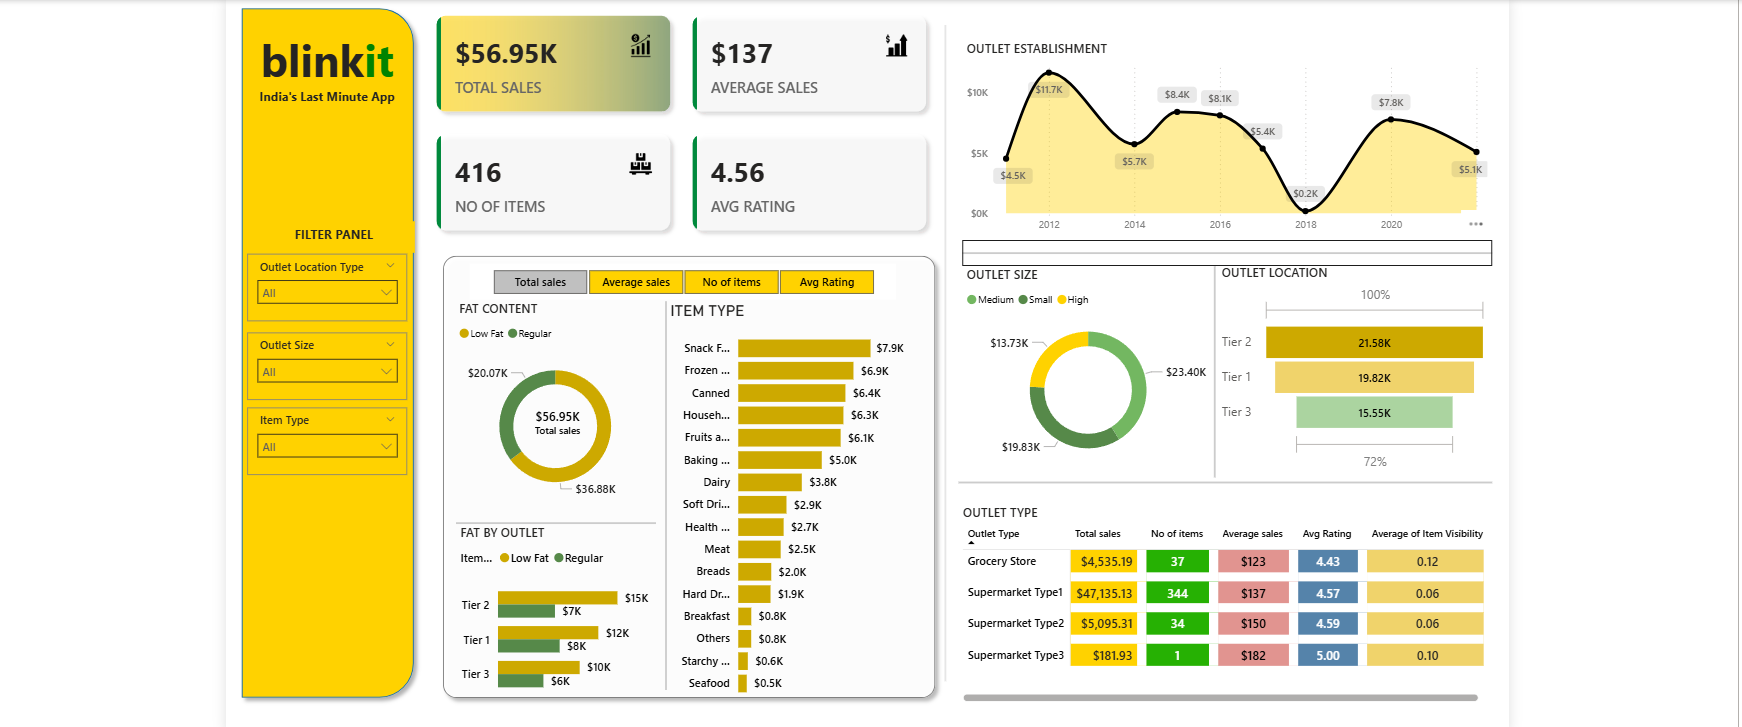

What the dashboard file says about the page in this screenshot:
{"tool":"powerbi","page":{"name":"Page 1","canvas":[1400,800],"ordinal":0},"visuals":[{"type":"shape","box":[7.5,0,205.6,769.9],"z":0},{"type":"textbox","box":[263.1,631.2,267.2,111.8],"z":1000},{"type":"textbox","box":[23.2,27.3,174.5,79.1],"z":2000},{"type":"textbox","box":[30,91.3,160.9,28.6],"z":3000},{"type":"cardVisual","fields":{"Data":["BlinkIT Grocery Data.Total sales","BlinkIT Grocery Data.Average sales","BlinkIT Grocery Data.No of items","BlinkIT Grocery Data.Avg Rating"]},"box":[212.7,0,569.9,269.9],"z":4000},{"type":"shape","box":[227.7,269.9,554.9,500.3],"z":5000},{"type":"donutChart","title":"FAT CONTENT","fields":{"Y":["BlinkIT Grocery Data.Total sales"],"Category":["BlinkIT Grocery Data.Item Fat Content"]},"box":[249.5,327.2,219.5,230.4],"z":6000},{"type":"slicer","fields":{"Values":["Metrics.Metrics"]},"box":[265.9,287.7,464.9,39.5],"z":7000},{"type":"cardVisual","fields":{"Data":["BlinkIT Grocery Data.Total sales"]},"box":[317.7,428.1,88.6,53.2],"z":8000},{"type":"clusteredBarChart","title":"FAT BY OUTLET","fields":{"Y":["BlinkIT Grocery Data.Total sales"],"Category":["BlinkIT Grocery Data.Outlet Location Type"],"Series":["BlinkIT Grocery Data.Item Fat Content"]},"box":[250.9,571.2,219.5,200.4],"z":9000},{"type":"shape","box":[250.9,556.2,218.1,28.6],"z":10000},{"type":"shape","box":[445.8,328.6,68.2,424],"z":11000},{"type":"barChart","title":"ITEM TYPE","fields":{"Y":["BlinkIT Grocery Data.Total sales"],"Category":["BlinkIT Grocery Data.Item Type"]},"box":[479.9,328.6,264.5,441.7],"z":12000},{"type":"lineChart","title":"OUTLET ESTABLISHMENT","fields":{"Y":["BlinkIT Grocery Data.Total sales"],"Category":["BlinkIT Grocery Data.Outlet Establishment Year"]},"box":[803,43.6,578.1,218.1],"z":13000},{"type":"shape","box":[803,261.8,578.1,28.6],"z":14000},{"type":"donutChart","title":"OUTLET SIZE","fields":{"Y":["BlinkIT Grocery Data.Total sales"],"Category":["BlinkIT Grocery Data.Outlet Size"]},"box":[803,290.4,275,225],"z":15000},{"type":"shape","box":[1044.3,290.4,68.2,230.4],"z":16000},{"type":"funnel","title":"OUTLET LOCATION","fields":{"Y":["Sum(BlinkIT Grocery Data.Sales)"],"Category":["BlinkIT Grocery Data.Outlet Location Type"]},"box":[1081.1,287.7,299.9,230.4],"z":17000},{"type":"shape","box":[798.9,511.3,582.1,30],"z":18000},{"type":"pivotTable","title":"OUTLET TYPE","fields":{"Rows":["BlinkIT Grocery Data.Outlet Type"],"Values":["BlinkIT Grocery Data.Total sales","BlinkIT Grocery Data.No of items","BlinkIT Grocery Data.Average sales","BlinkIT Grocery Data.Avg Rating","Avg(BlinkIT Grocery Data.Item Visibility)"]},"box":[798.9,549.4,578.1,220.9],"z":19000},{"type":"shape","box":[744.4,27.3,80.4,715.8],"z":20000},{"type":"slicer","fields":{"Values":["BlinkIT Grocery Data.Outlet Location Type"]},"box":[23.2,276.8,174.5,73.6],"z":21000},{"type":"slicer","fields":{"Values":["BlinkIT Grocery Data.Outlet Size"]},"box":[23.2,362.6,174.5,73.6],"z":22000},{"type":"slicer","fields":{"Values":["BlinkIT Grocery Data.Item Type"]},"box":[23.2,444.4,174.5,73.6],"z":23000},{"type":"textbox","box":[30,241.6,175.6,34.5],"z":24000}]}

Visuals, with their boxes on the page's 1400x800 design canvas (x1, y1, x2, y2). These are canvas units, not pixel positions in the 1742x727 screenshot, which may show the page scaled, cropped or inside an application window:
shape: [8,0,213,770]
textbox: [263,631,530,743]
textbox: [23,27,198,106]
textbox: [30,91,191,120]
cardVisual - BlinkIT Grocery Data.Total sales x BlinkIT Grocery Data.Average sales: [213,0,783,270]
shape: [228,270,783,770]
"FAT CONTENT" donutChart: [250,327,469,558]
slicer - Metrics.Metrics: [266,288,731,327]
cardVisual - BlinkIT Grocery Data.Total sales: [318,428,406,481]
"FAT BY OUTLET" clusteredBarChart: [251,571,470,772]
shape: [251,556,469,585]
shape: [446,329,514,753]
"ITEM TYPE" barChart: [480,329,744,770]
"OUTLET ESTABLISHMENT" lineChart: [803,44,1381,262]
shape: [803,262,1381,290]
"OUTLET SIZE" donutChart: [803,290,1078,515]
shape: [1044,290,1112,521]
"OUTLET LOCATION" funnel: [1081,288,1381,518]
shape: [799,511,1381,541]
"OUTLET TYPE" pivotTable: [799,549,1377,770]
shape: [744,27,825,743]
slicer - BlinkIT Grocery Data.Outlet Location Type: [23,277,198,350]
slicer - BlinkIT Grocery Data.Outlet Size: [23,363,198,436]
slicer - BlinkIT Grocery Data.Item Type: [23,444,198,518]
textbox: [30,242,206,276]
